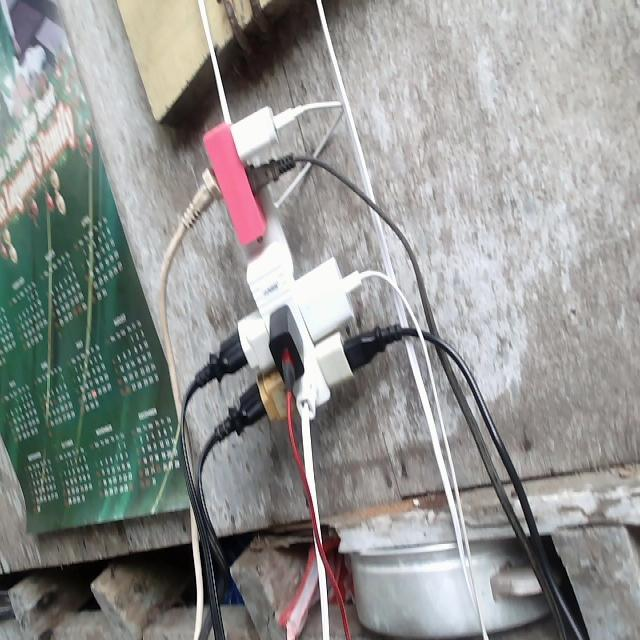-: (193, 106, 376, 430)
